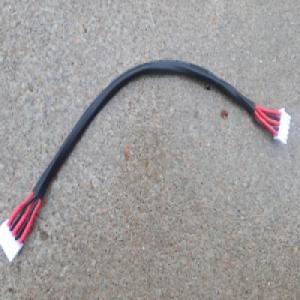Wire: (0, 59, 292, 266)
